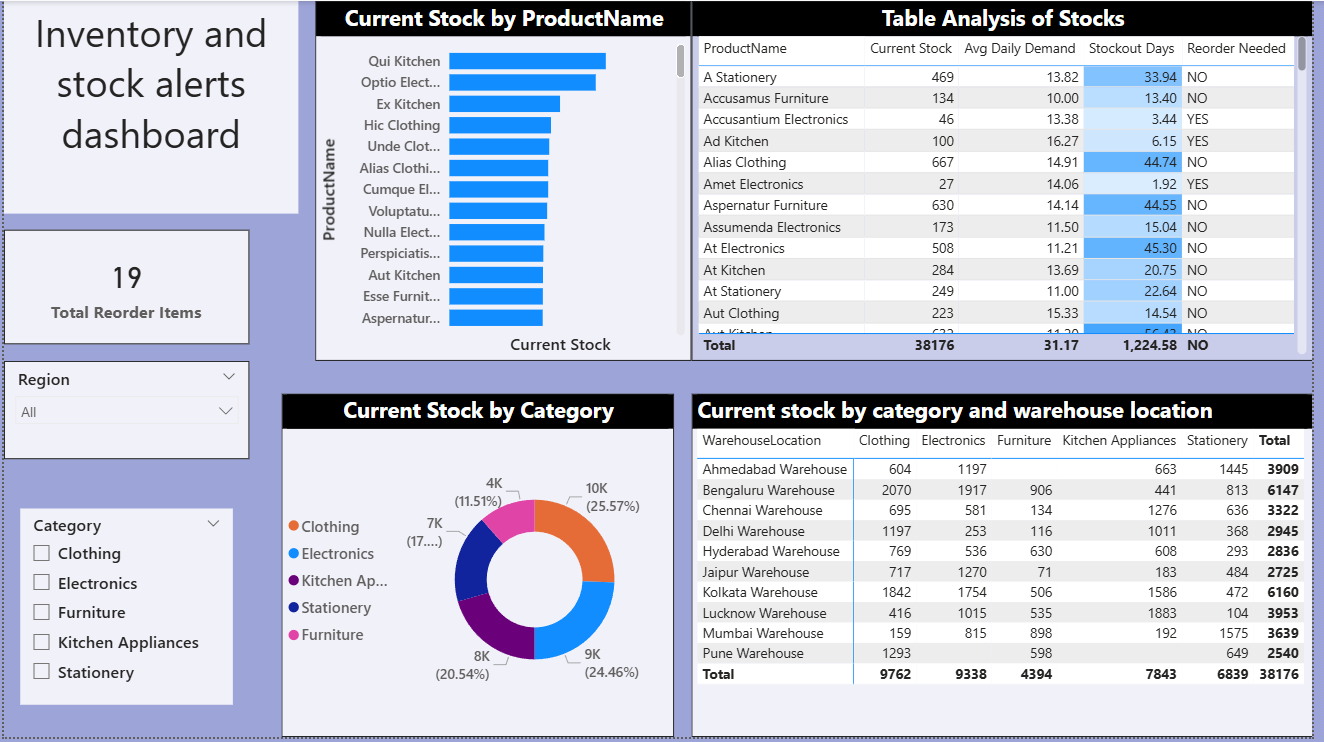

The dashboard page shown, as its layout file describes it:
{"tool":"powerbi","page":{"name":"\"Inventory & Stock Alerts Dashboard","canvas":[1280,720],"ordinal":2},"visuals":[{"type":"clusteredBarChart","fields":{"Y":["Inventory.Current Stock"],"Category":["product_master.ProductName"]},"box":[304,0,368,352],"z":0},{"type":"tableEx","title":"Table Analysis of Stocks","fields":{"Values":["product_master.ProductName","Inventory.Current Stock","Inventory.Avg Daily Demand","Inventory.Stockout Days","Inventory.Reorder Needed"]},"box":[672,0,608,304],"z":1000},{"type":"card","fields":{"Values":["Inventory.Total Reorder Items"]},"box":[0,224,240,112],"z":2000},{"type":"donutChart","fields":{"Category":["product_master.Category"],"Y":["Inventory.Current Stock"]},"box":[272,384,384,336],"z":3000},{"type":"pivotTable","title":"Current stock by category and warehouse location","fields":{"Rows":["Inventory.WarehouseLocation"],"Columns":["product_master.Category"],"Values":["Inventory.Current Stock"]},"box":[672,416,608,304],"z":4000},{"type":"textbox","box":[0,0,288,208],"z":5001},{"type":"slicer","fields":{"Values":["product_master.Category"]},"box":[16,496,208,192],"z":5002},{"type":"slicer","fields":{"Values":["sales.Region"]},"box":[0,352,240,96],"z":5003}]}

Visuals, with their boxes in screenshot pixels (x1, y1, x2, y2), scaled from the page's 1280x720 canvas onto the 1324x742 screenshot:
clusteredBarChart - Inventory.Current Stock x product_master.ProductName: <region>314, 0, 695, 363</region>
"Table Analysis of Stocks" tableEx: <region>695, 0, 1323, 313</region>
card - Inventory.Total Reorder Items: <region>0, 231, 248, 346</region>
donutChart - product_master.Category x Inventory.Current Stock: <region>281, 396, 679, 741</region>
"Current stock by category and warehouse location" pivotTable: <region>695, 429, 1323, 741</region>
textbox: <region>0, 0, 298, 214</region>
slicer - product_master.Category: <region>17, 511, 232, 709</region>
slicer - sales.Region: <region>0, 363, 248, 462</region>
